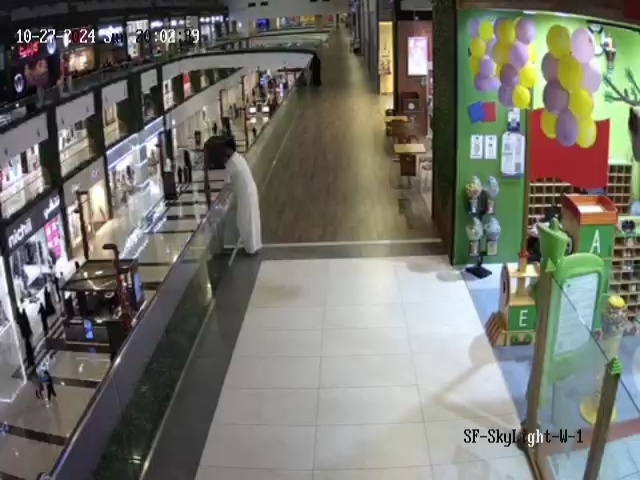female: (305, 47, 326, 94)
male: (212, 133, 272, 267)
